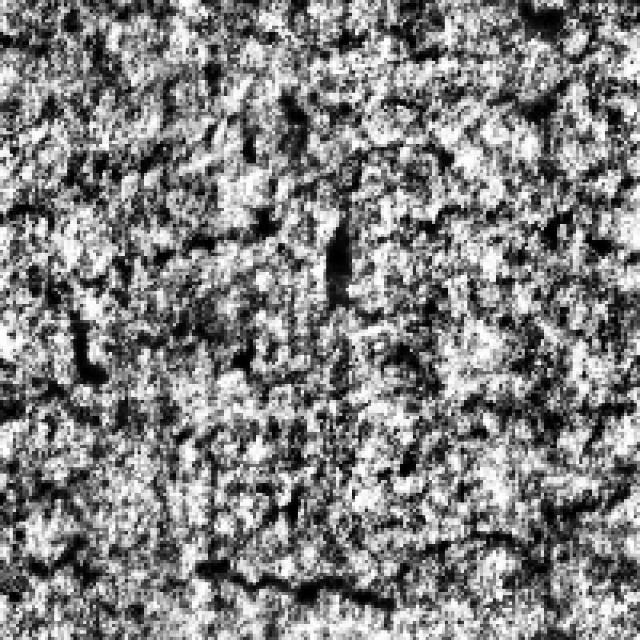Pitted_Surface: (0, 368, 416, 608), (16, 96, 282, 394)
